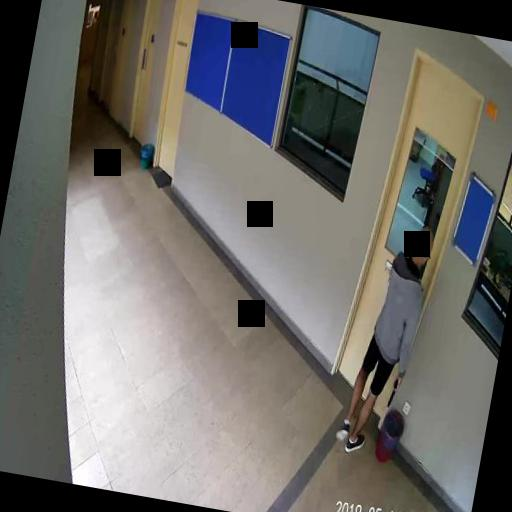Handgun: (385, 374, 401, 408)
